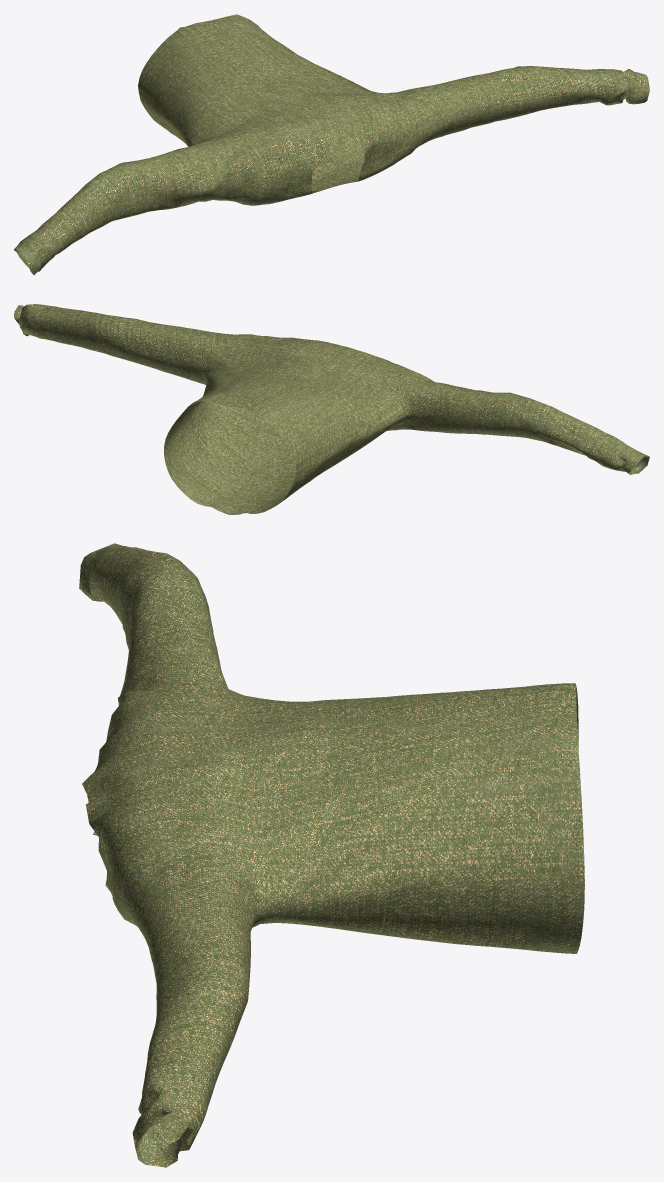
File: tshirt2.obj
3 views of the same model, one above another, from view 1: azimuth 30°, elevation 25°; view 2: azimuth 150°, elevation 25°; view 3: azimuth 270°, elevation 25° (orthographic). The views are drawn at different scales.
Size of the model in its own units: 1.74 by 0.3011 by 0.6189.
1 material, 1 textured.
